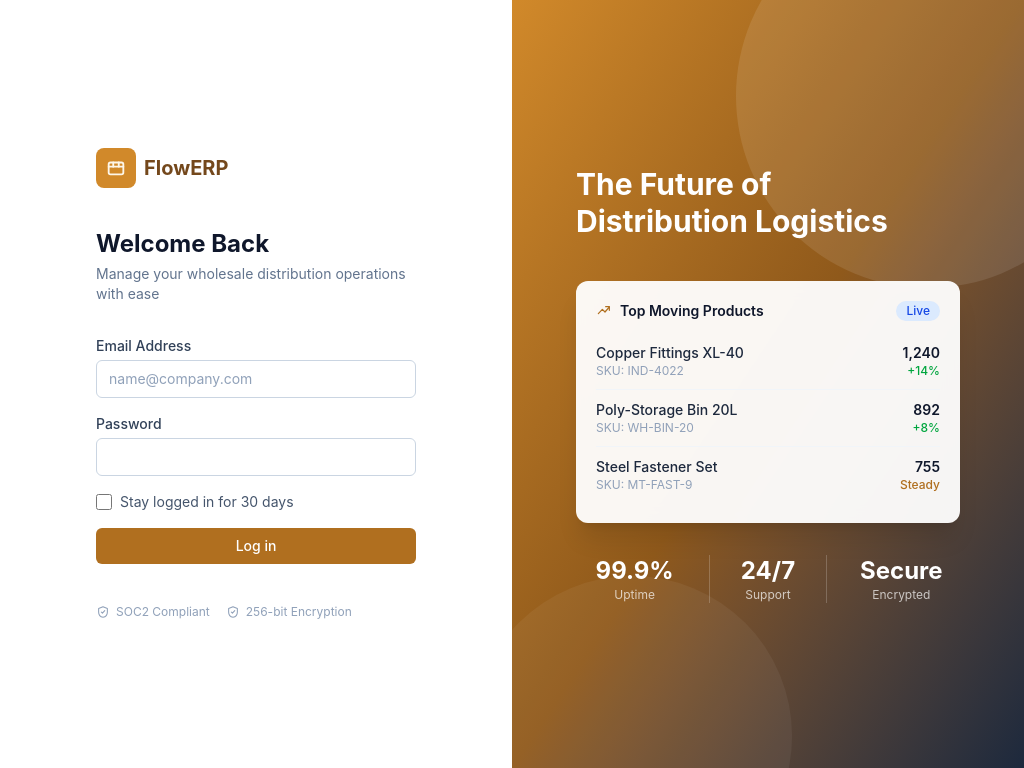
LoginPage › shows an inline error and stays on the page when login fails
Type "admin@flowerp.test" into the field labelled "Email Address".
click(256, 379); type("admin@flowerp.test")  # box top-left (96, 360), bottom-right (416, 398)
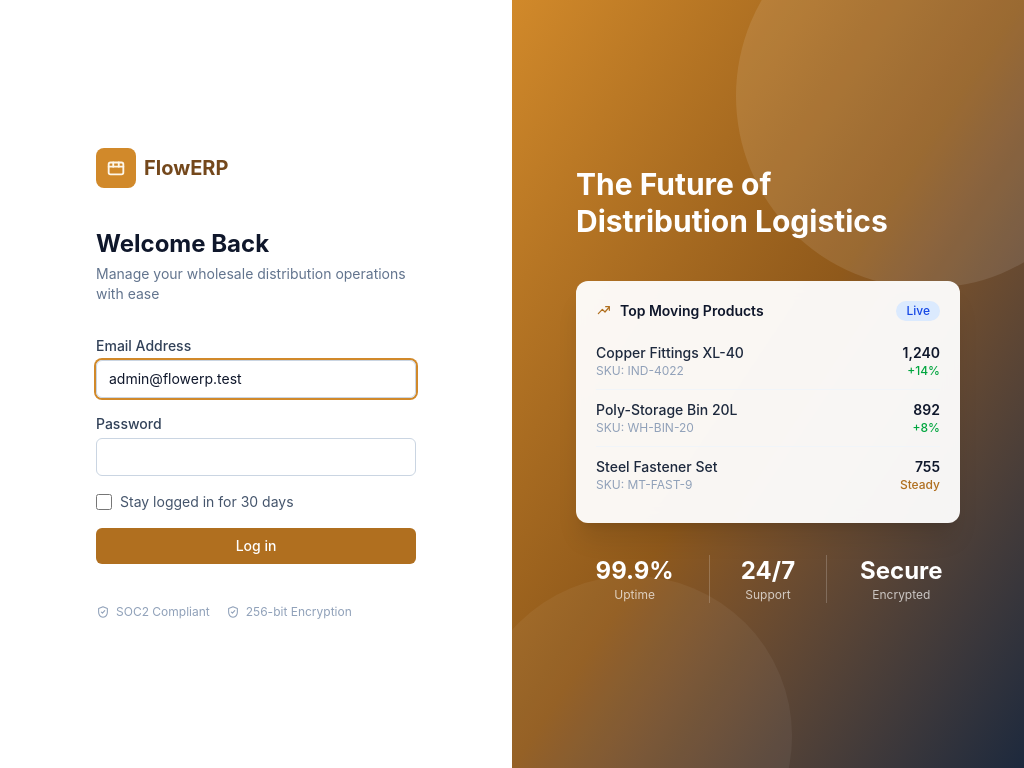
Type "wrong-password" into the password field labelled "Password".
click(256, 457); type("wrong-password")  # box top-left (96, 438), bottom-right (416, 476)
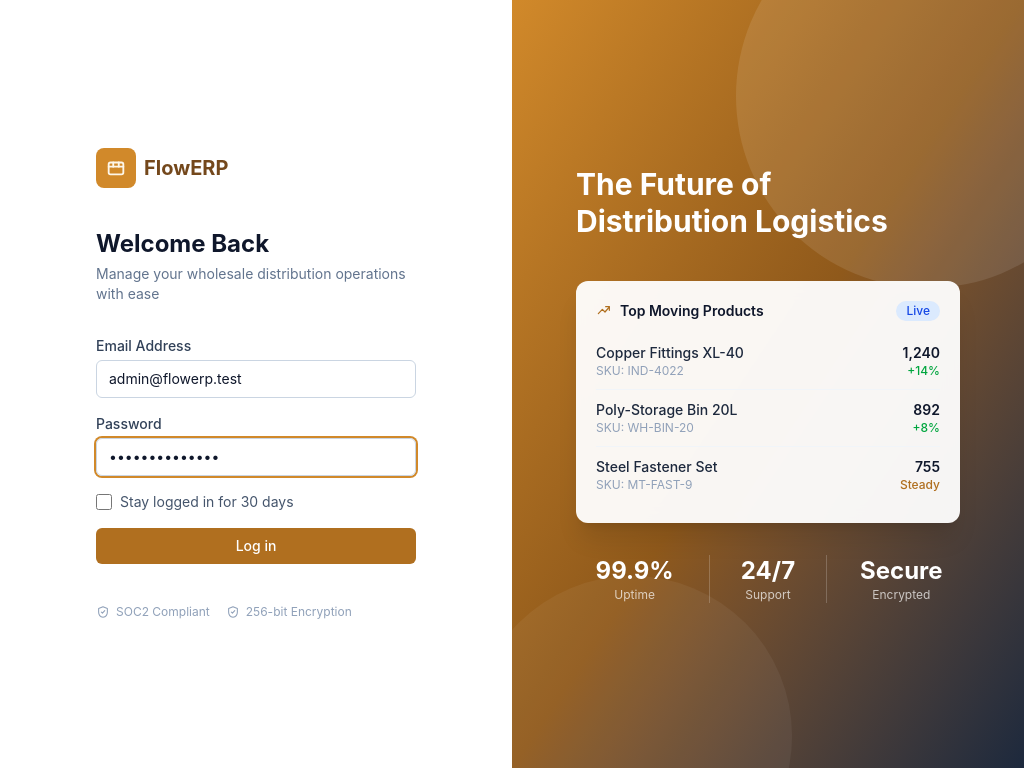
Click the button "Log in".
click(256, 546)  # box top-left (96, 528), bottom-right (416, 564)
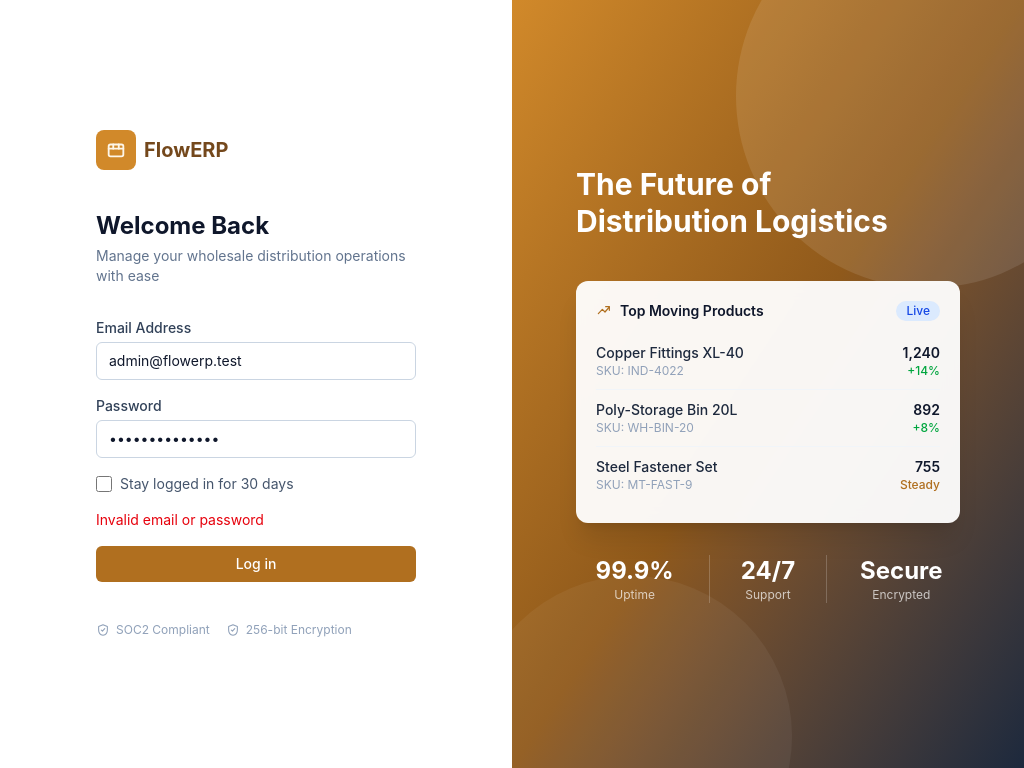
Result: the message reads "Invalid email or password" at top-left (96, 511), bottom-right (264, 528)
